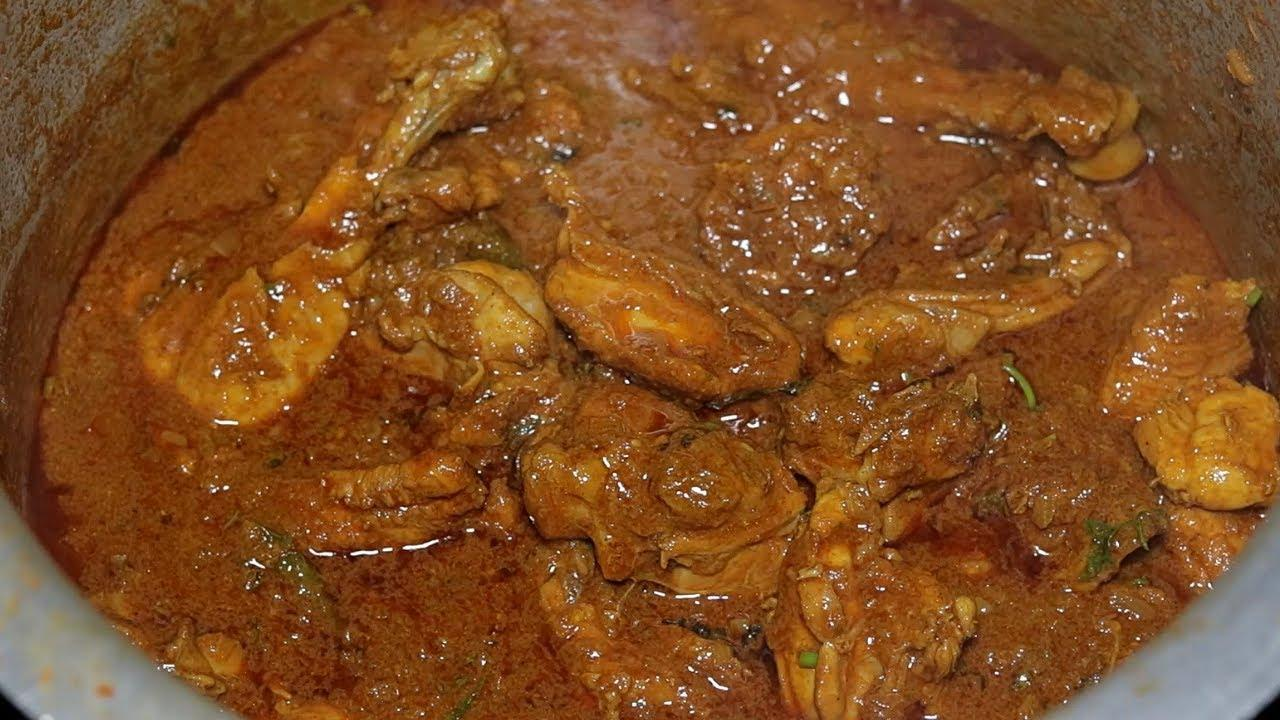chicken: (32, 7, 1280, 720)
